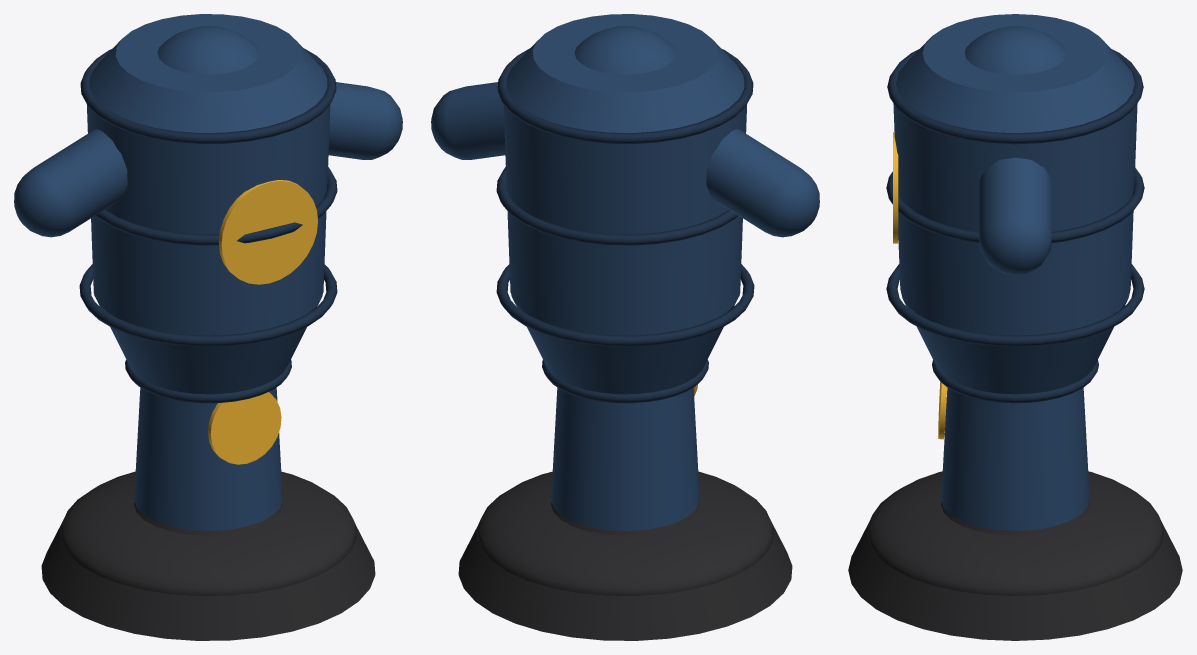
Rendered from train_dummy_giant.glb.
The picture shows the model from 3 angles, left to right: view 1: azimuth 30°, elevation 25°; view 2: azimuth 150°, elevation 25°; view 3: azimuth 270°, elevation 25°; orthographic projection.
Parts seen in each view (by area): view 1: dummy_body_pad, dummy_base, dummy_body_seams, dummy_body_targets; view 2: dummy_body_pad, dummy_base, dummy_body_seams; view 3: dummy_body_pad, dummy_base, dummy_body_seams, dummy_body_targets.
Part boxes in pixels (x1,y1,x2,y2): dummy_body_pad: (14,14,402,530); dummy_base: (41,471,375,640); dummy_body_seams: (79,48,337,403); dummy_body_targets: (208,180,317,464); dummy_body_pad: (431,14,819,530); dummy_base: (458,471,792,640); dummy_body_seams: (496,48,754,403); dummy_body_pad: (893,14,1137,530); dummy_base: (848,471,1182,640); dummy_body_seams: (886,49,1144,403); dummy_body_targets: (893,132,946,439).
Size of the model in its own units: 2.36 by 3.19 by 1.8.
